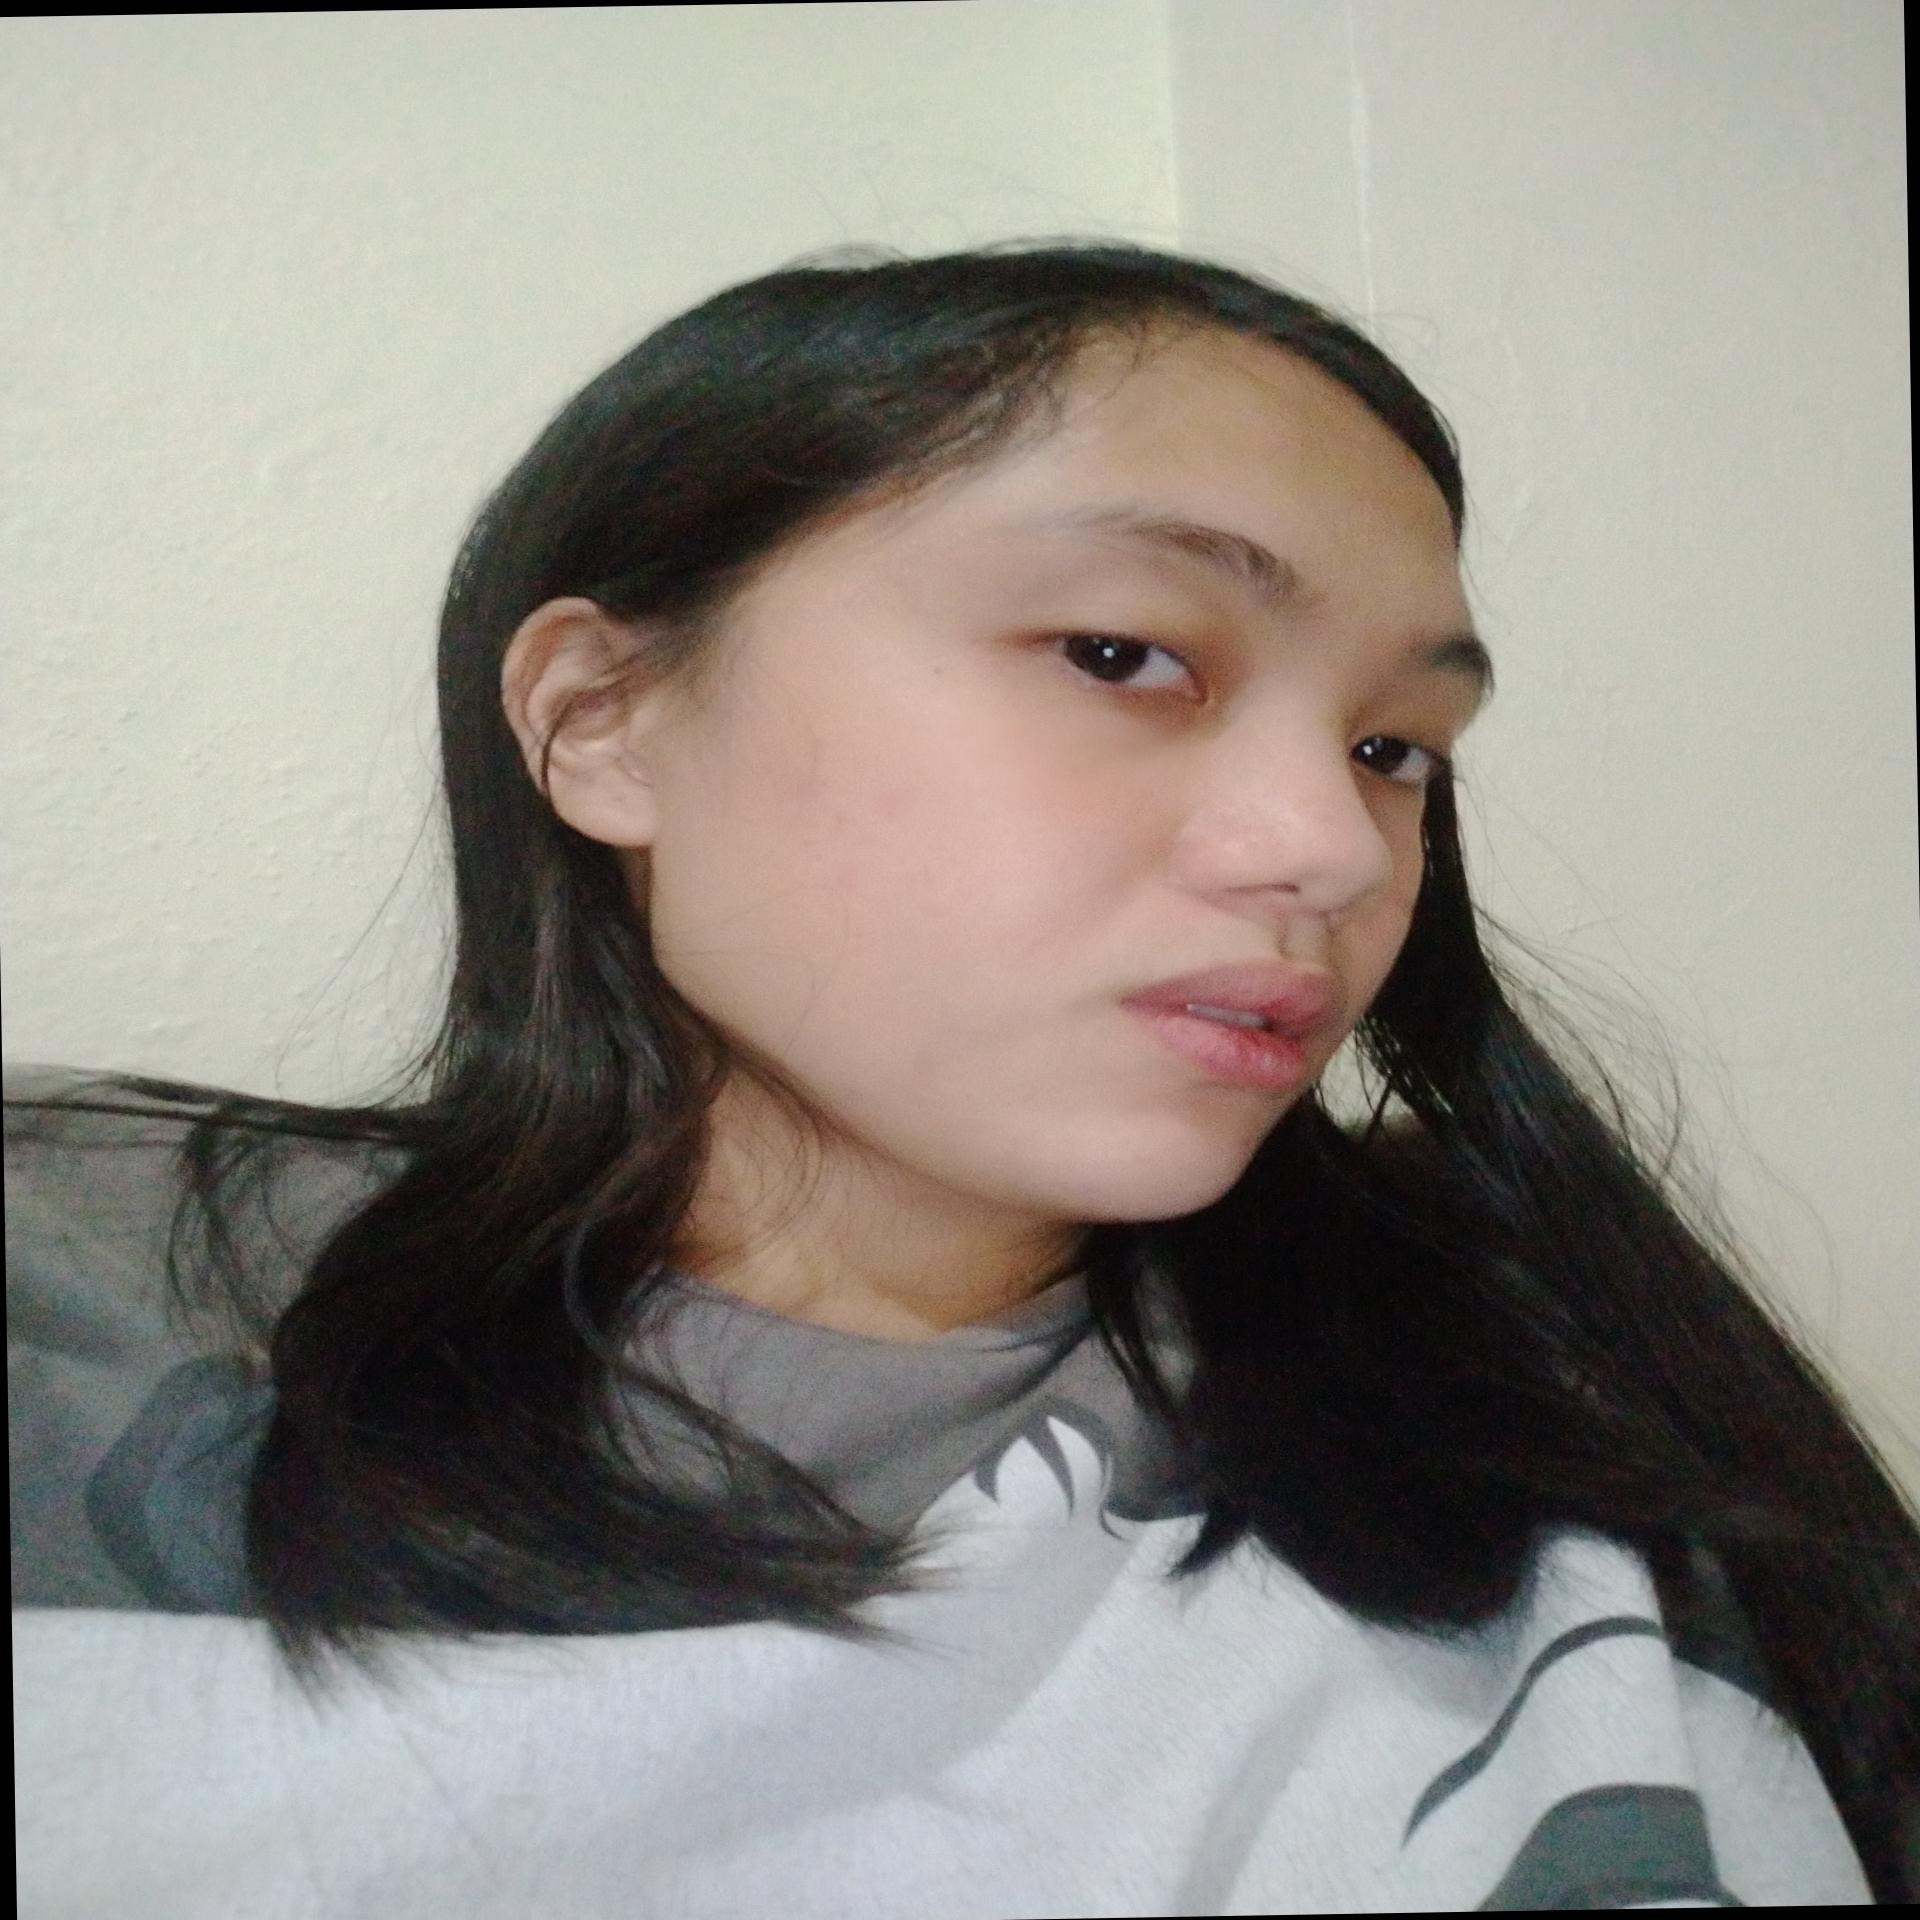Acne: (816, 844, 865, 902), (867, 784, 920, 819), (777, 775, 830, 807)
